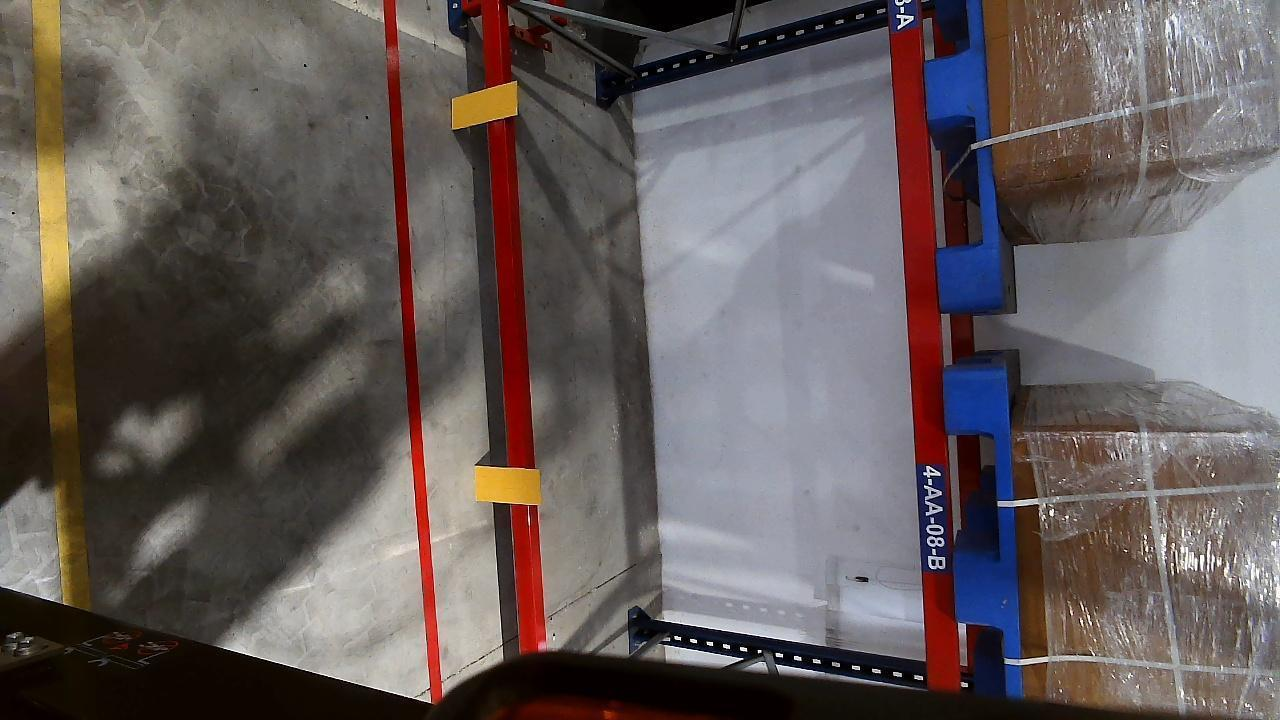red_line: (373, 0, 449, 693)
yellow_line: (37, 0, 99, 604)
